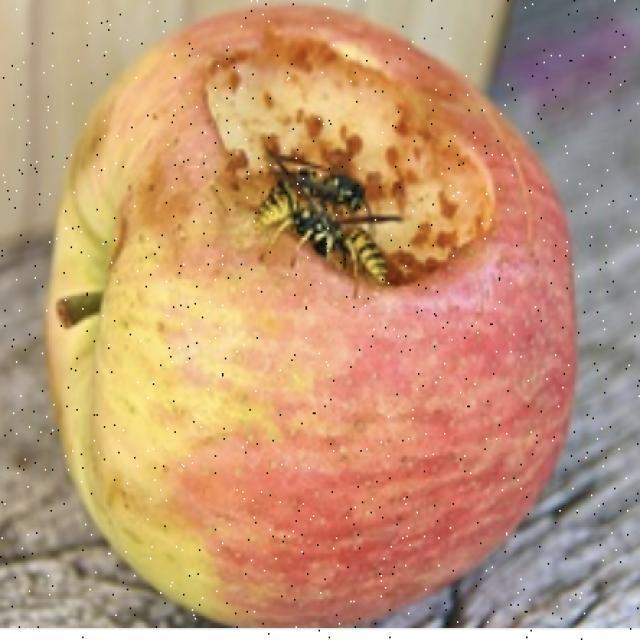Rotten: (13, 17, 607, 608)
